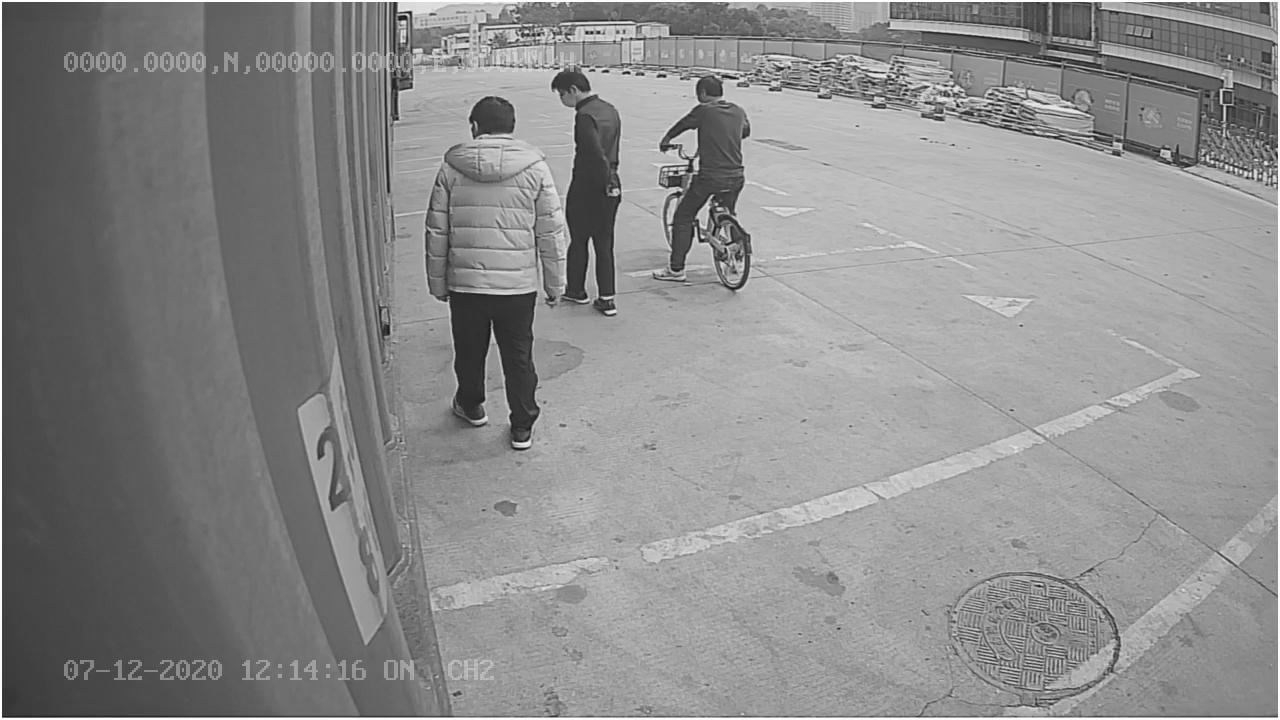person: (425, 97, 569, 449)
